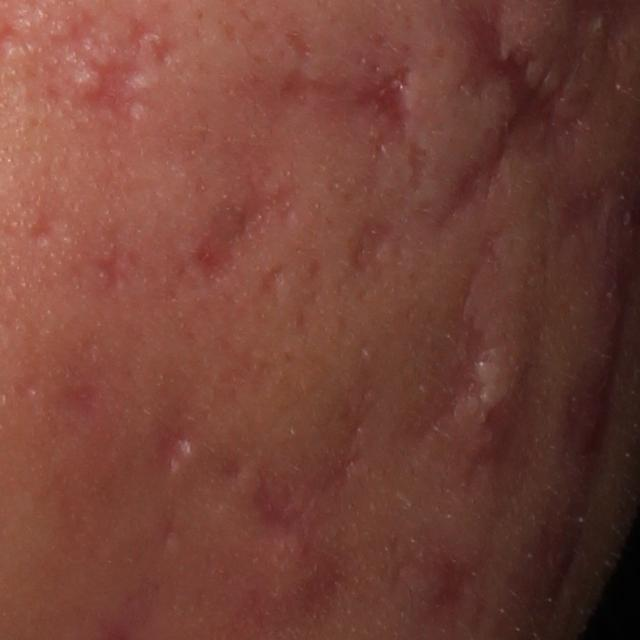atrophic_scar: (247, 409, 372, 615), (404, 223, 507, 445), (462, 364, 553, 511), (185, 179, 303, 285), (275, 62, 415, 146), (70, 54, 152, 128), (426, 554, 481, 617), (81, 239, 135, 296), (349, 212, 396, 276), (20, 194, 66, 248), (152, 423, 197, 477), (258, 264, 286, 308), (282, 27, 315, 63), (148, 38, 178, 67)
hypertrophic_scar: (453, 345, 518, 438), (67, 64, 110, 95), (127, 69, 159, 98)
